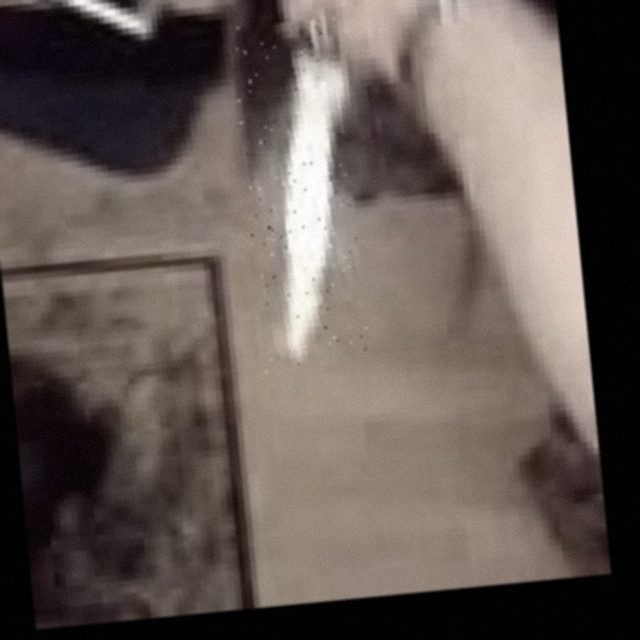Sharp-Object: (232, 17, 370, 373)
